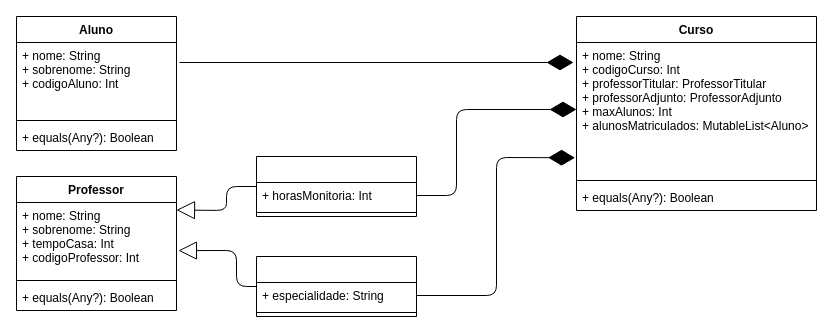
This 833x333 diagram has some shape labels left out. The box of each missing label's shape, as (x1, y1, x2, y2) in pixels:
ProfessorAdjunto: (256, 156, 416, 216)
ProfessorTitular: (256, 256, 416, 316)
